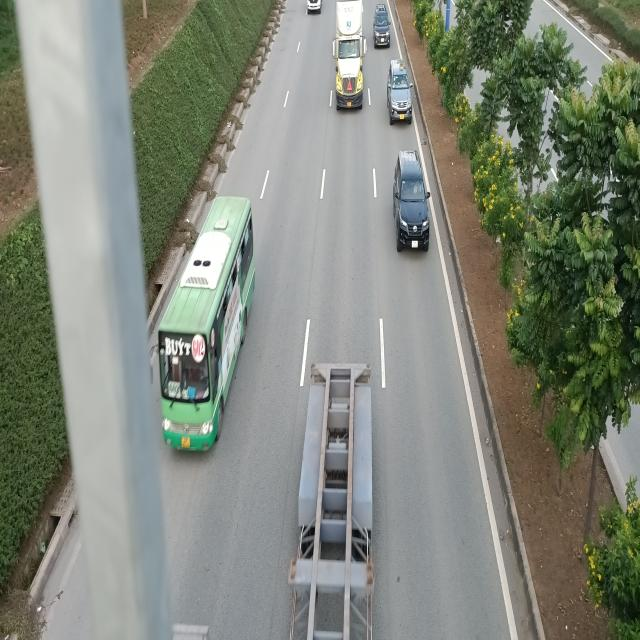car: (392, 146, 431, 255), (385, 60, 414, 126), (373, 5, 391, 47), (562, 583, 566, 583)
coach: (157, 192, 255, 454)
container: (291, 358, 377, 640), (332, 0, 364, 107)
